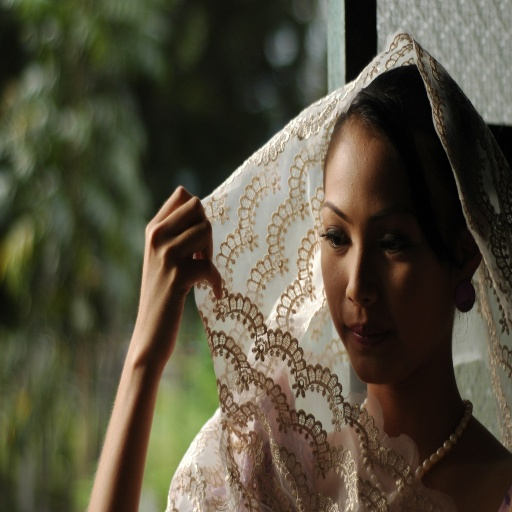hand: (137, 183, 220, 332)
